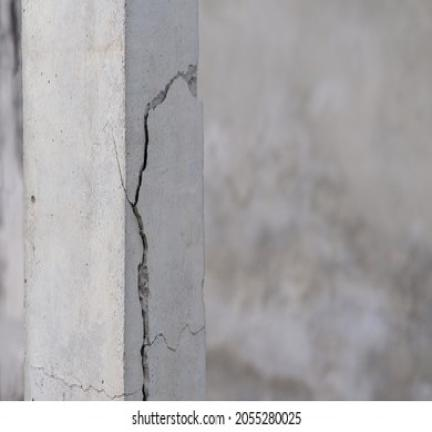besi_tidak_karat: (22, 0, 206, 402)
